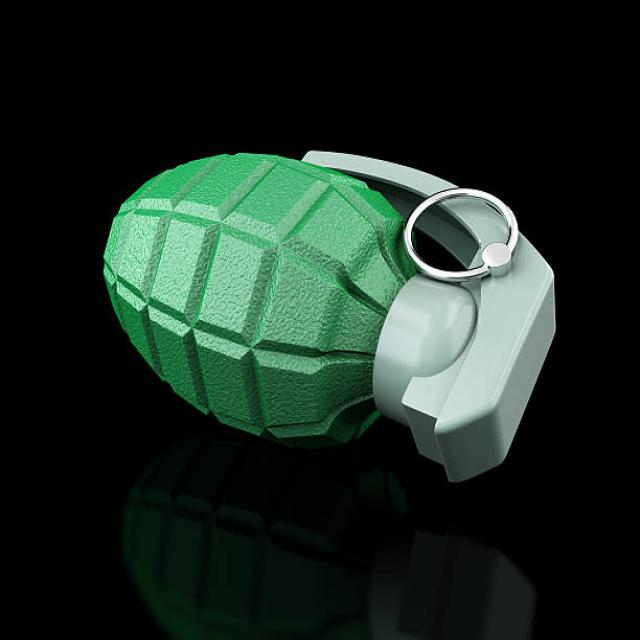grenade: (98, 142, 568, 489)
